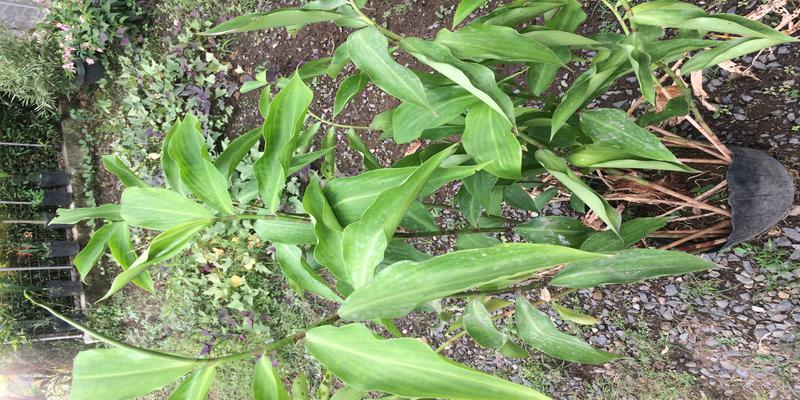Insulin: (280, 13, 728, 382)
